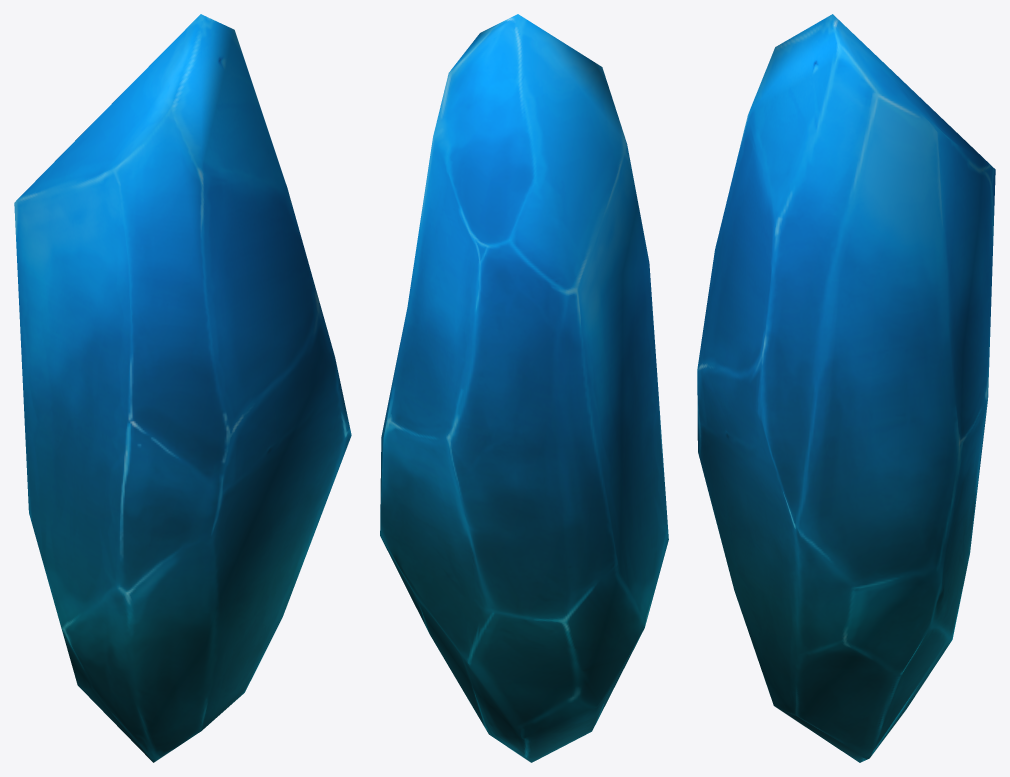
Rendered from tree_gem2.fbx.
3 views of the same model, side by side, from view 1: azimuth 30°, elevation 25°; view 2: azimuth 150°, elevation 25°; view 3: azimuth 270°, elevation 25° (orthographic). The views are drawn at different scales.
Visible parts, largest first — view 1: gem006.002; view 2: gem006.002; view 3: gem006.002.
Boxes of the visible parts, bbox=[...] form: gem006.002: bbox=[14, 14, 351, 762]; gem006.002: bbox=[380, 14, 668, 762]; gem006.002: bbox=[697, 14, 995, 762].
Size of the model in its own units: 536 by 1409 by 500.
